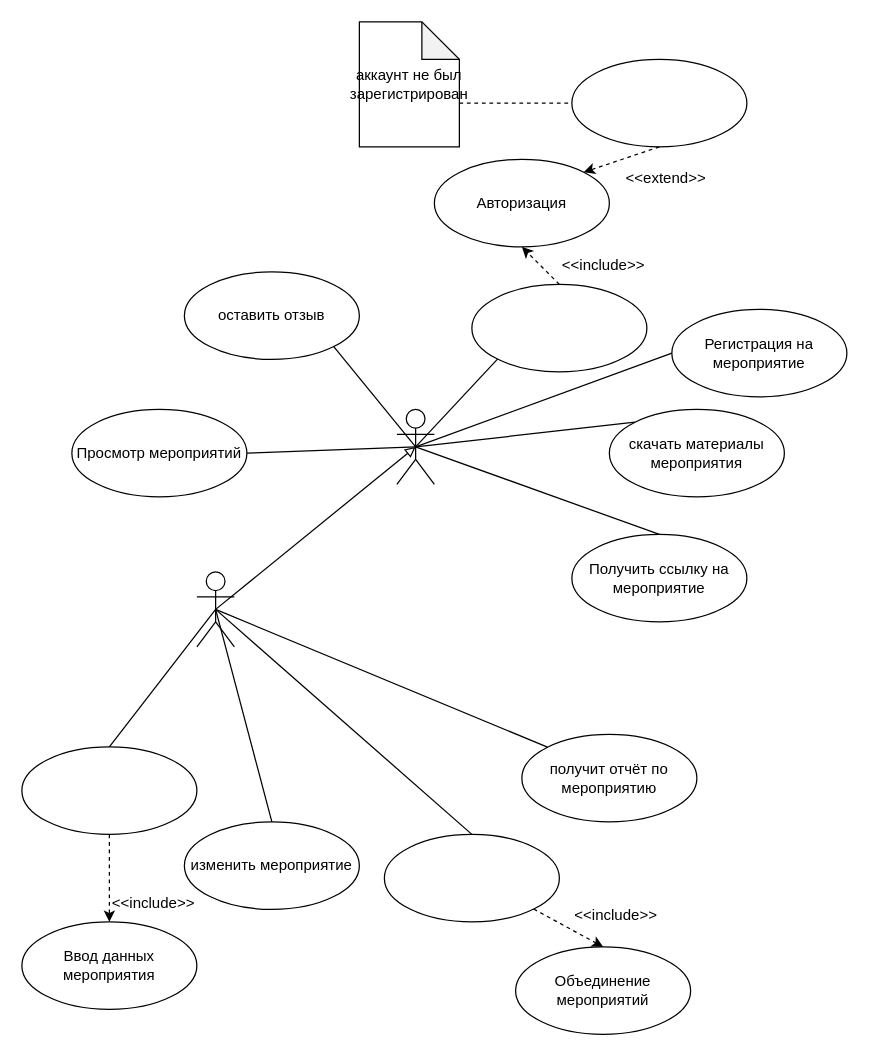
Some shapes in this 869 by 1056 pixel diagram are drawn without their labels. The shapes that lost their labels are listed below. From the top down, each one's centre as x and y in pixels, then its label:
pixel 659 102: регистрация
pixel 559 327: Вход в систему
pixel 415 446: Пользователь
pixel 215 609: Организатор
pixel 109 790: создать мероприятие
pixel 471 877: создать группу мероприятий
